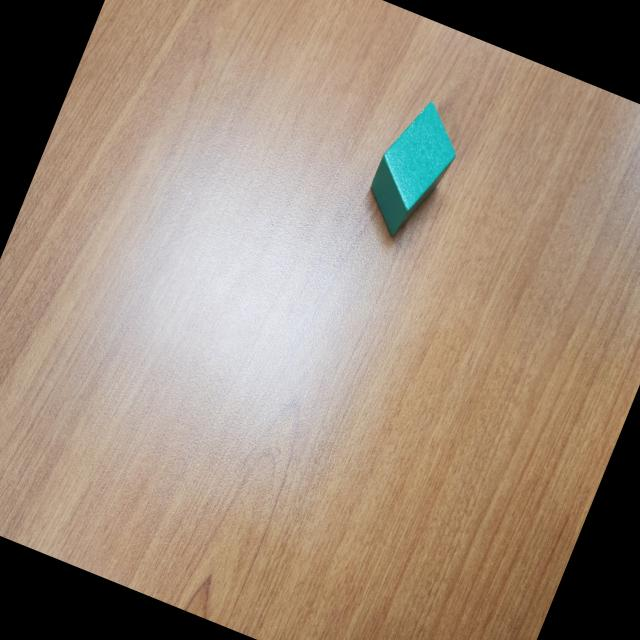green: (354, 90, 472, 249)
